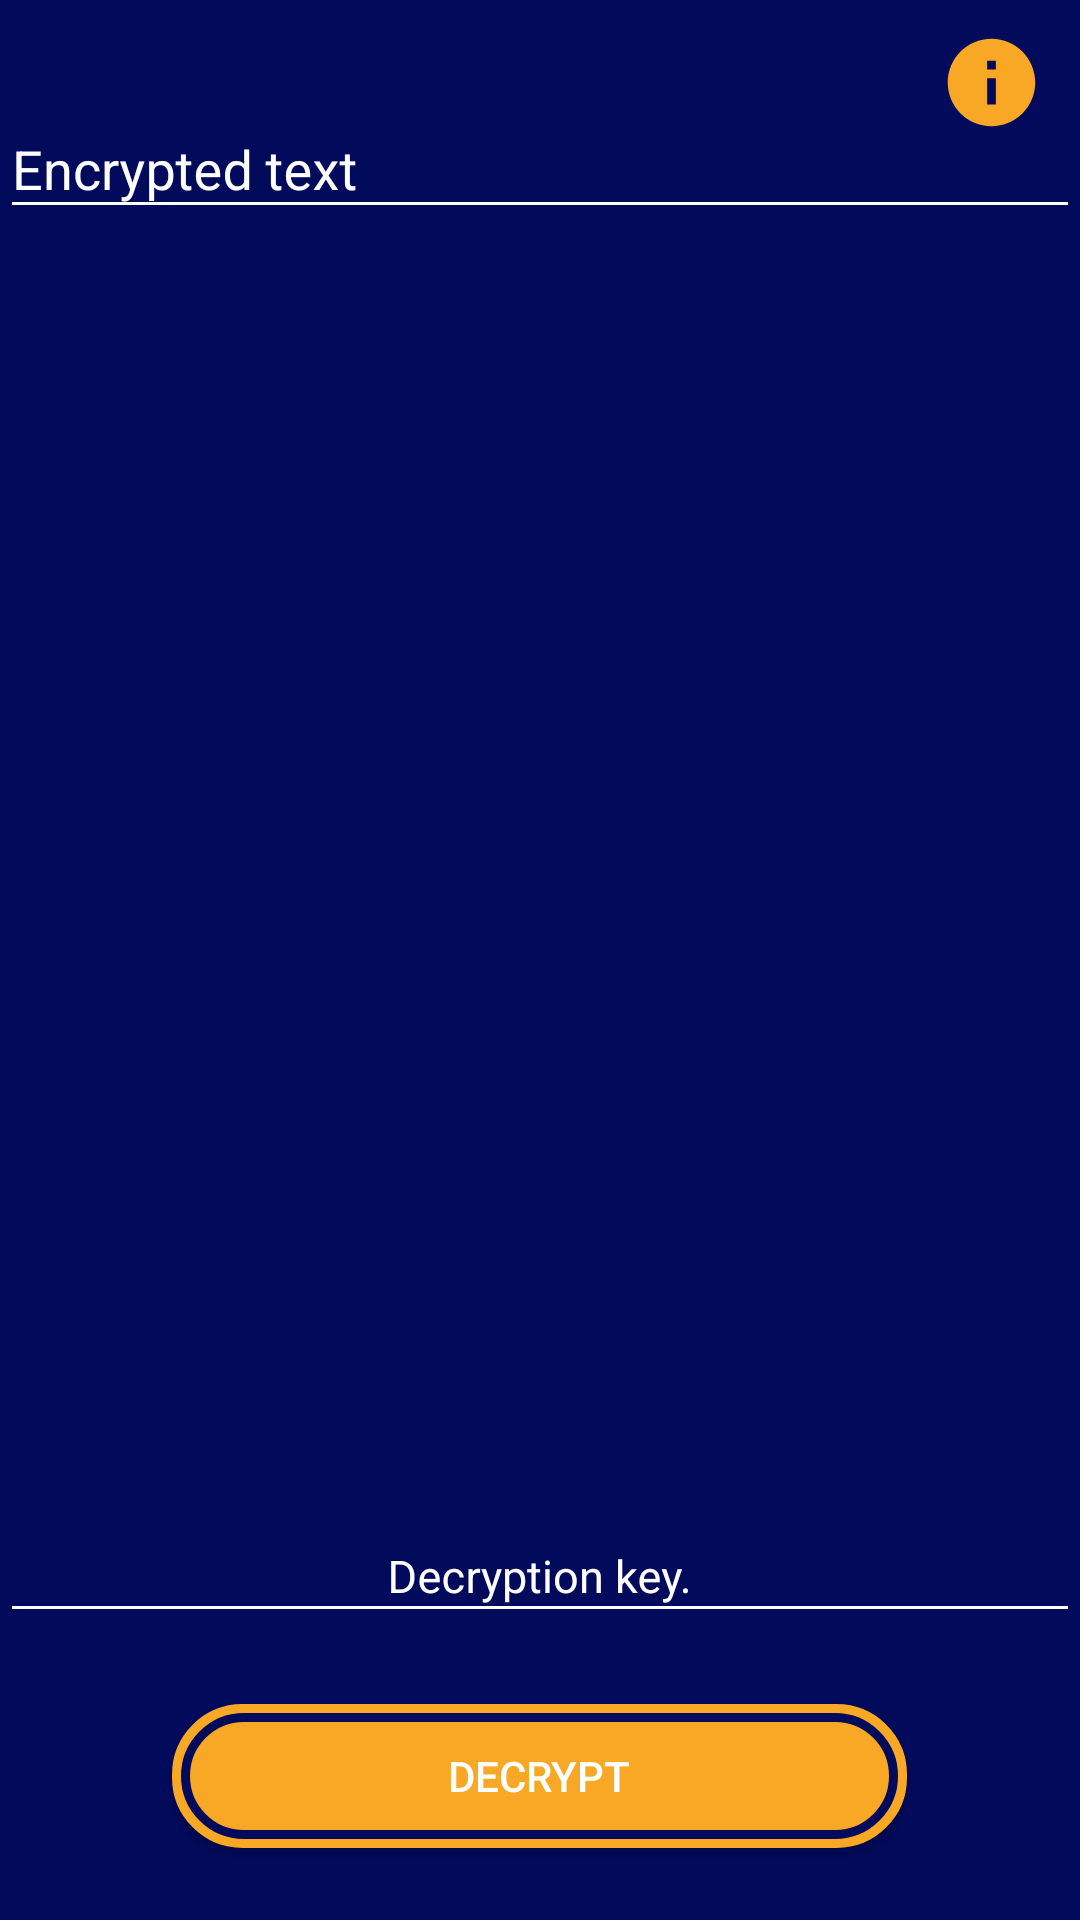

Screen size 1080px x 1920px. Icon name, then its box in pixels as [x1,y1,x2,y2]:
info: [947,38,1036,127]
